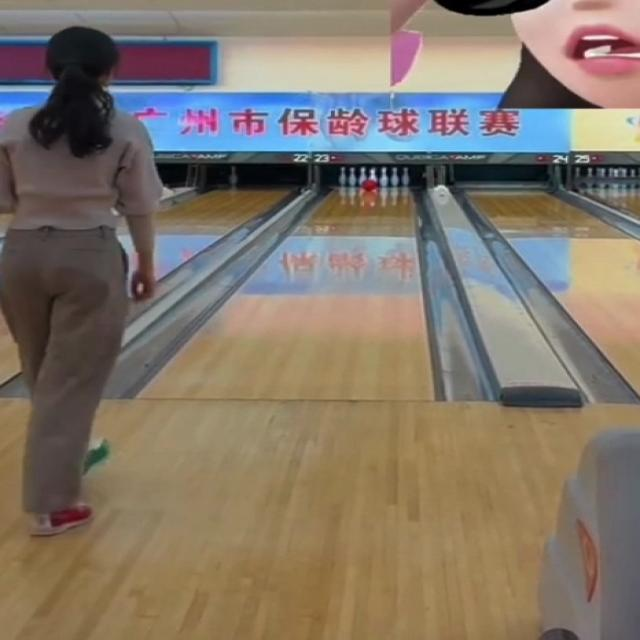alley: (143, 190, 433, 399)
balls: (363, 179, 376, 192)
bottle: (339, 167, 409, 190)
